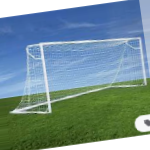goals: (9, 34, 150, 114)
